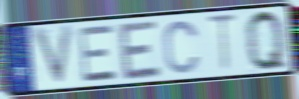C: (162, 18, 202, 76)
E: (117, 18, 164, 83), (77, 23, 120, 84)
Q: (243, 8, 291, 73)
T: (205, 12, 239, 75)
V: (30, 22, 77, 90)
